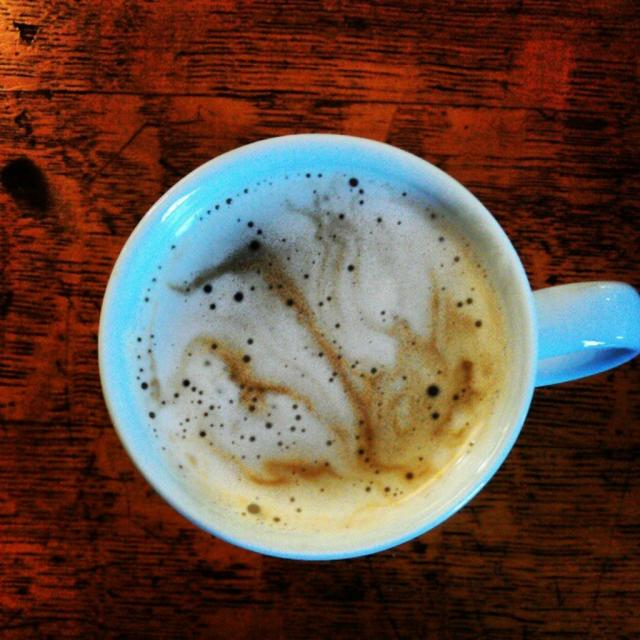latte: (97, 134, 539, 559)
